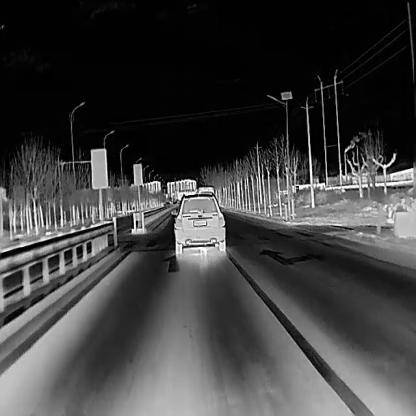car: (170, 190, 226, 254)
